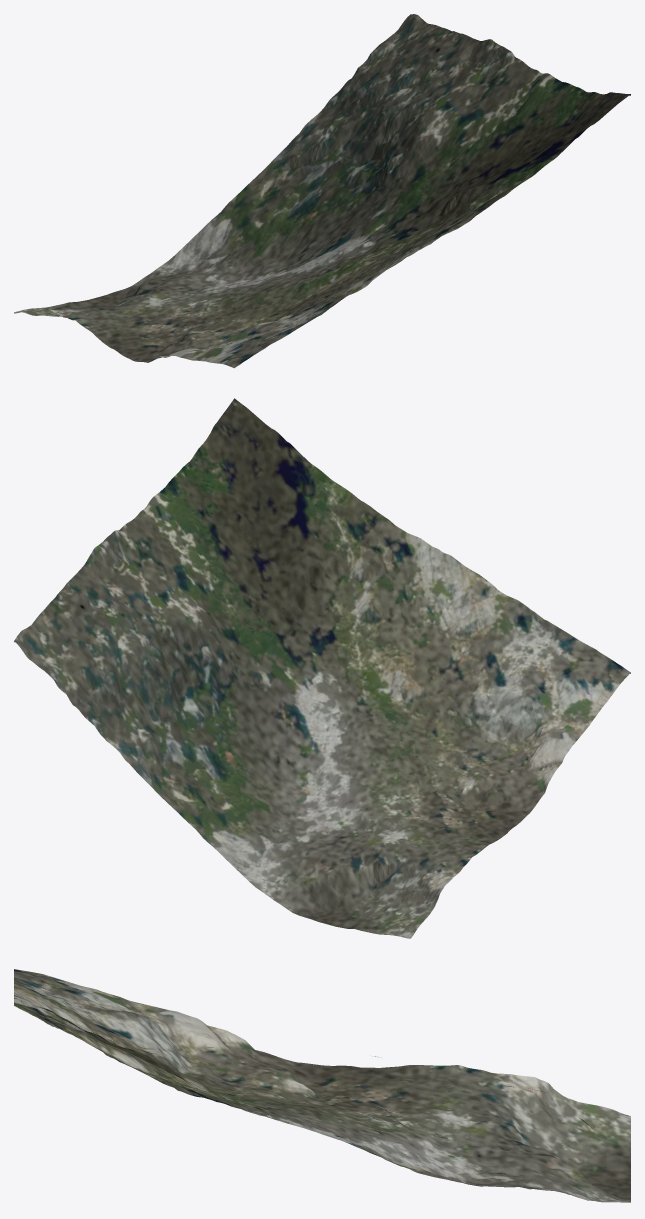
3 renders of one model, top to bottom at view 1: azimuth 30°, elevation 25°; view 2: azimuth 150°, elevation 25°; view 3: azimuth 270°, elevation 25°, orthographic. The views are drawn at different scales.
Bounding box in the file's own units: 250 × 175 × 241.
1 material, 1 textured.
